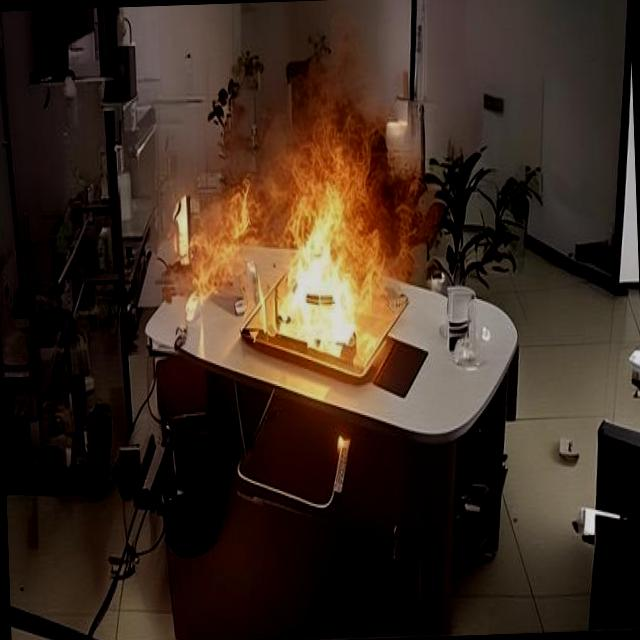fire: (141, 86, 424, 392)
